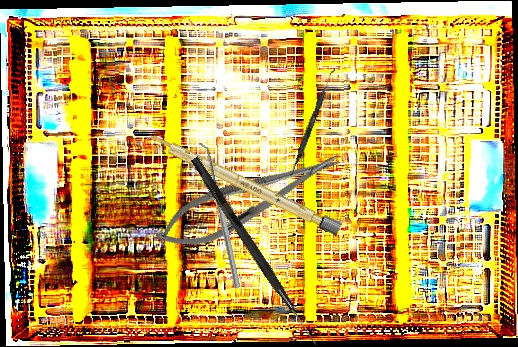Hook Surgical: (188, 156, 322, 347)
Needle Holder: (148, 138, 349, 262)
Scalpel Handle: (143, 129, 343, 237)
Spatula Surgical: (197, 141, 241, 290), (288, 66, 336, 179)
